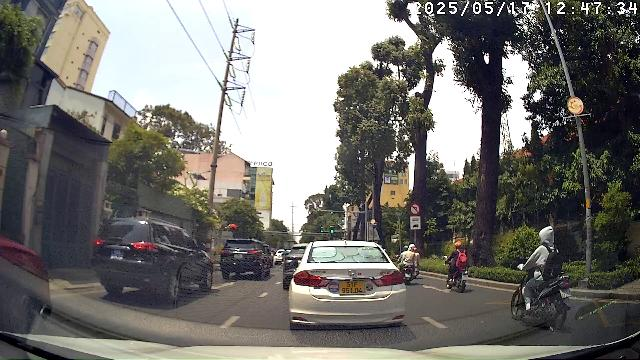123a-cam-re-trai: (409, 202, 421, 216)
